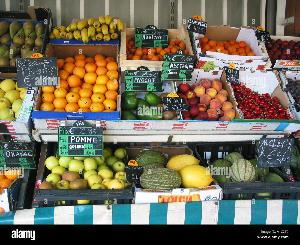apple: (41, 140, 127, 196), (0, 74, 34, 126)
apricot: (194, 17, 262, 61), (124, 28, 192, 62)
avocado: (122, 74, 174, 122)
banana: (45, 6, 123, 44)
melon: (126, 138, 228, 196), (216, 146, 296, 188)
orange: (32, 50, 118, 120)
peach: (178, 71, 240, 121)
pear: (0, 10, 48, 68)
